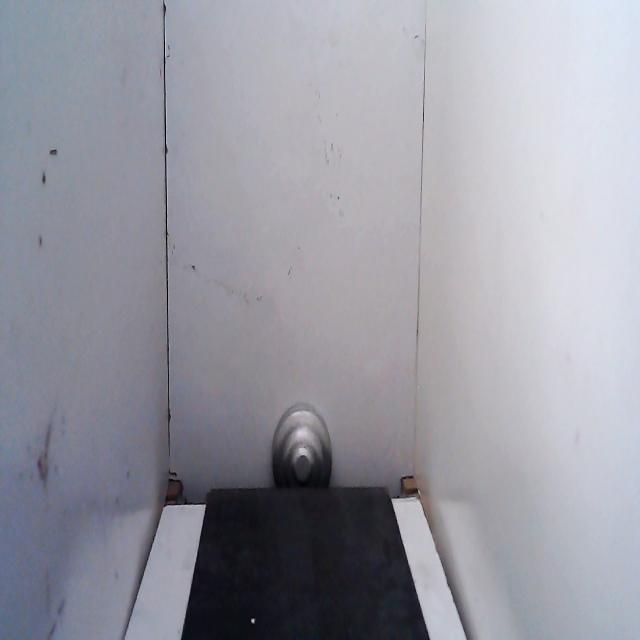metal: (264, 396, 346, 512)
